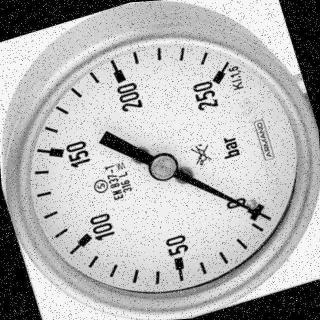gauge: (0, 0, 320, 320), (183, 54, 249, 119), (220, 186, 278, 236), (146, 151, 179, 183), (258, 209, 275, 225)
